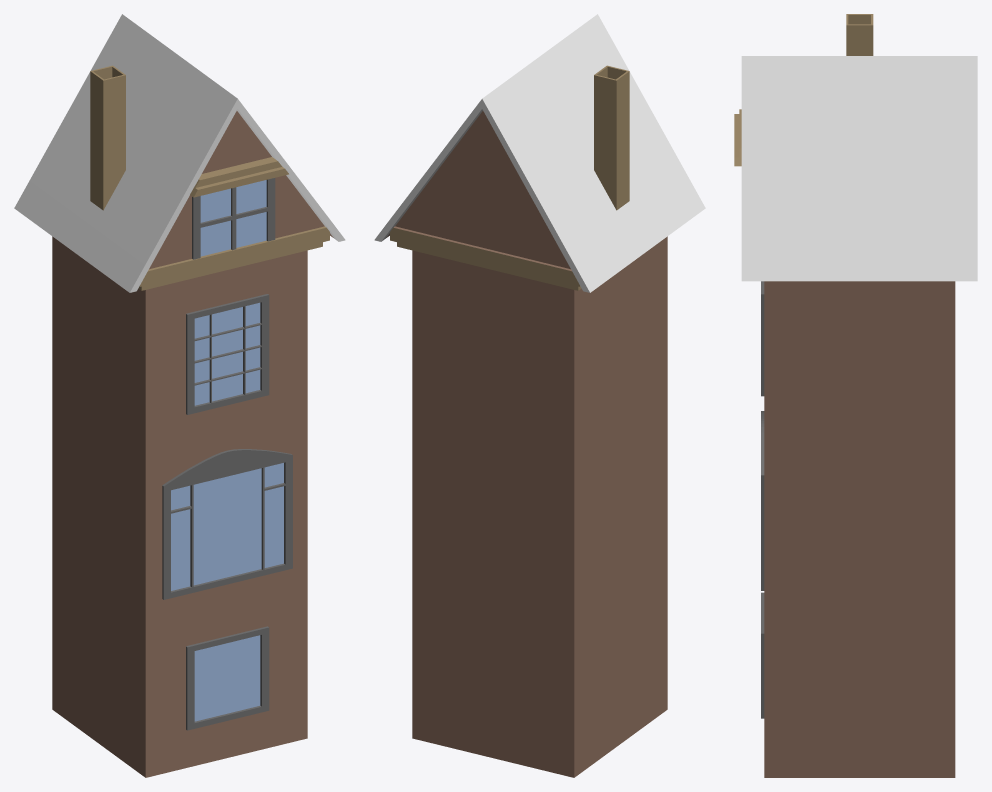
Rendered from House1Lvl2.fbx.
3 renders of one model, left to right at view 1: azimuth 30°, elevation 25°; view 2: azimuth 150°, elevation 25°; view 3: azimuth 270°, elevation 25°, orthographic. The views are drawn at different scales.
Parts seen in each view (by area): view 1: House1Lvl2; view 2: House1Lvl2; view 3: House1Lvl2.
Boxes of the visible parts, <box> form: House1Lvl2: <box>14,14,345,777</box>; House1Lvl2: <box>374,14,705,777</box>; House1Lvl2: <box>734,14,977,777</box>.
Size of the model in its own units: 59.34 by 175 by 56.77.
